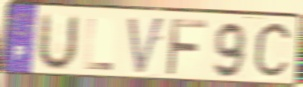9: (213, 20, 248, 79)
C: (251, 19, 295, 83)
F: (164, 16, 209, 78)
L: (83, 16, 115, 72)
U: (35, 12, 81, 73)
V: (126, 15, 167, 78)
